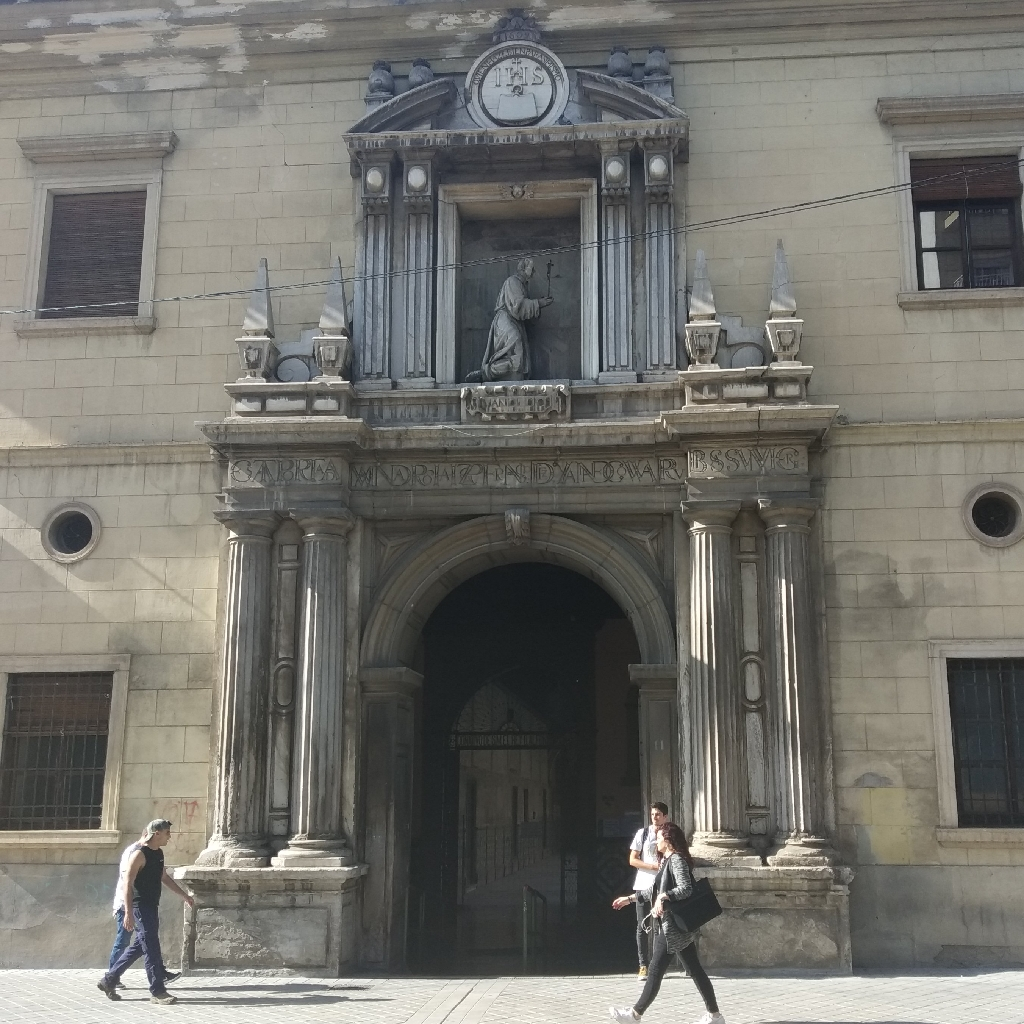arco-medio-punto: (388, 538, 656, 712)
fronton-partido: (343, 69, 690, 144)
ojo-de-buey: (957, 479, 1024, 548), (39, 500, 105, 570)
vano-adintelado: (432, 173, 602, 384), (23, 145, 176, 329), (881, 110, 1024, 295), (1, 651, 133, 836), (923, 636, 1024, 839)
